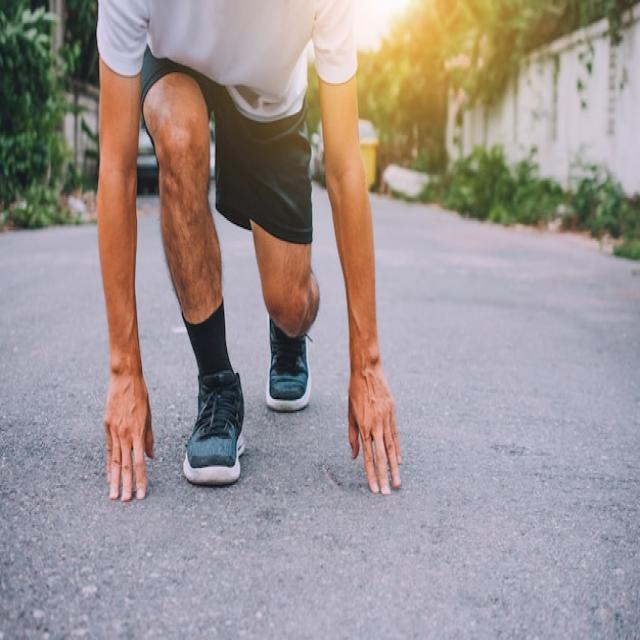No_Glove: (346, 334, 410, 503), (98, 354, 158, 510)
